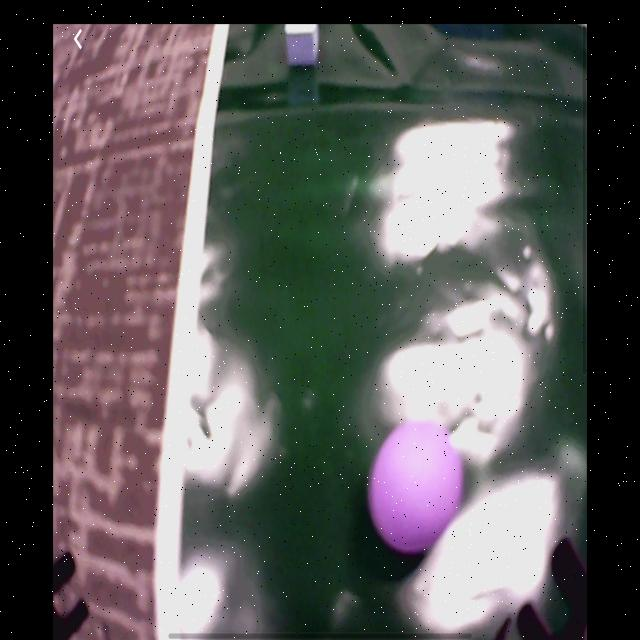ball: (372, 423, 463, 554)
